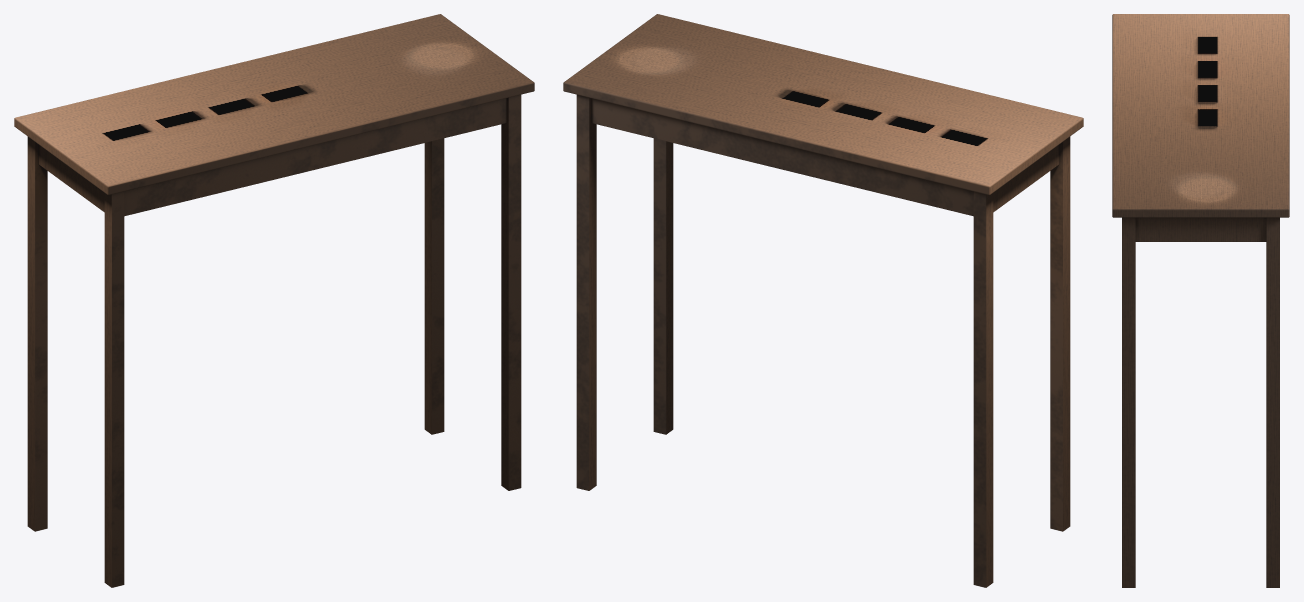
Rendered from 801_state.glb.
The picture shows the model from 3 angles, left to right: view 1: azimuth 30°, elevation 25°; view 2: azimuth 150°, elevation 25°; view 3: azimuth 270°, elevation 25°; orthographic projection. The views are drawn at different scales.
Parts seen in each view (by area): view 1: Table; view 2: Table; view 3: Table.
Boxes of the visible parts, left/top/right/bottom form: Table: left=14, top=14, right=534, bottom=587; Table: left=563, top=14, right=1083, bottom=587; Table: left=1112, top=14, right=1289, bottom=587.
Size of what is drawn, in the model's own units: 3.4 by 3.1 by 1.3.
1 material, 1 textured.
